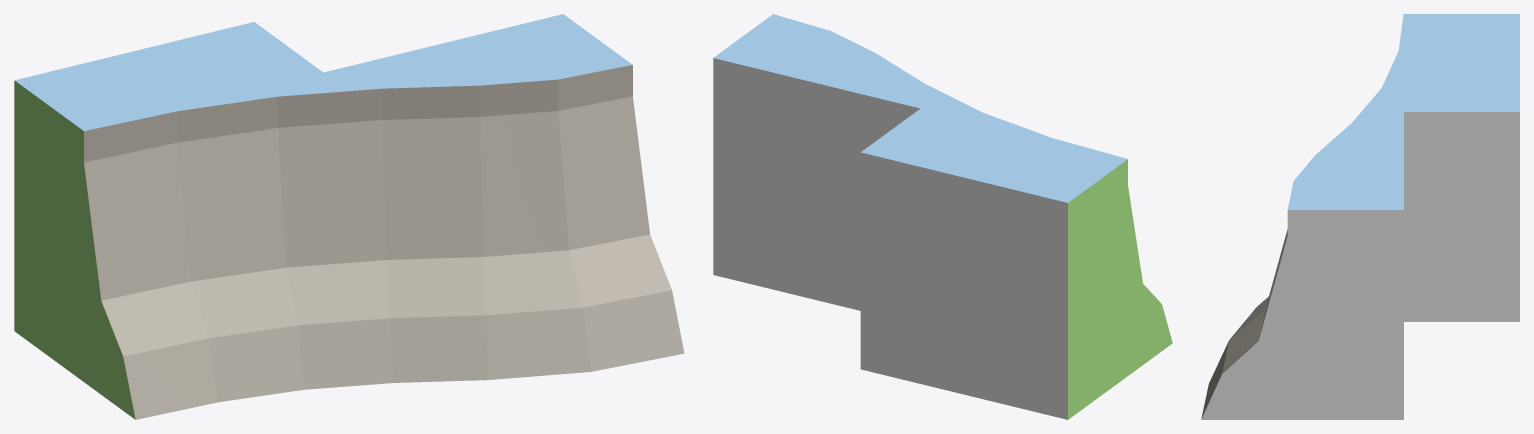
The model's file is Wall_Esse_3x4_Base.glb.
3 views of the same model, side by side, from view 1: azimuth 30°, elevation 25°; view 2: azimuth 150°, elevation 25°; view 3: azimuth 270°, elevation 25° (orthographic). The views are drawn at different scales.
Visible parts, largest first — view 1: Wall_Esse_3x4_Base; view 2: Wall_Esse_3x4_Base; view 3: Wall_Esse_3x4_Base.
Boxes of the visible parts, left/top/right/bottom form: Wall_Esse_3x4_Base: left=14, top=14, right=684, bottom=419; Wall_Esse_3x4_Base: left=713, top=14, right=1172, bottom=419; Wall_Esse_3x4_Base: left=1201, top=14, right=1519, bottom=419.
Bounding box in the file's own units: 400 × 200 × 275.
